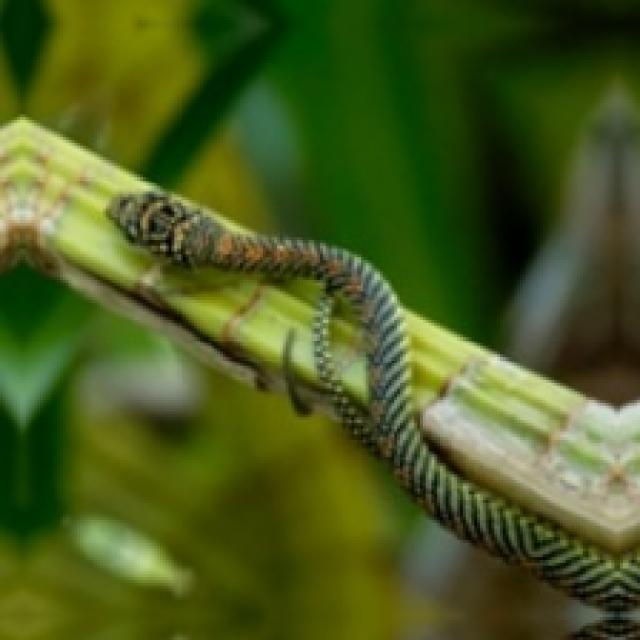paradise tree snake: (110, 194, 640, 612)
